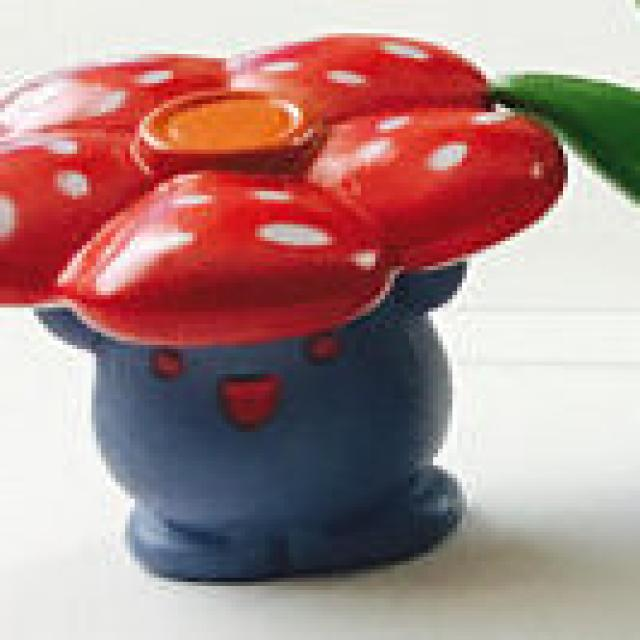Vileplume: (34, 32, 494, 587)
